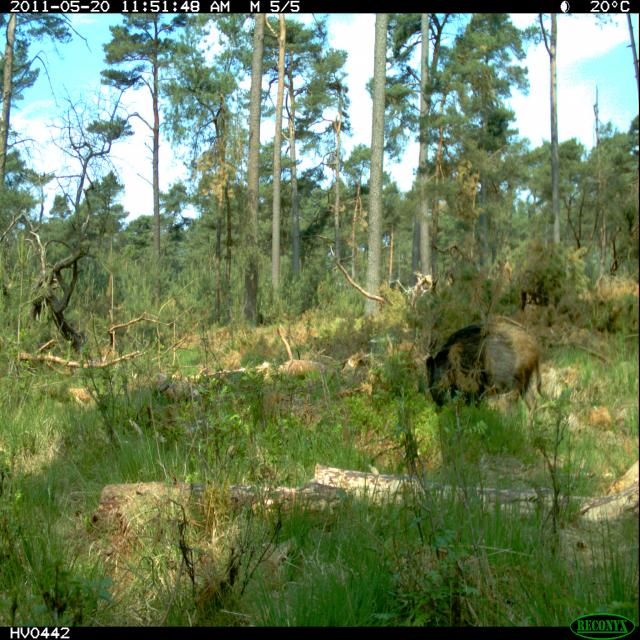boar: (424, 304, 568, 422)
